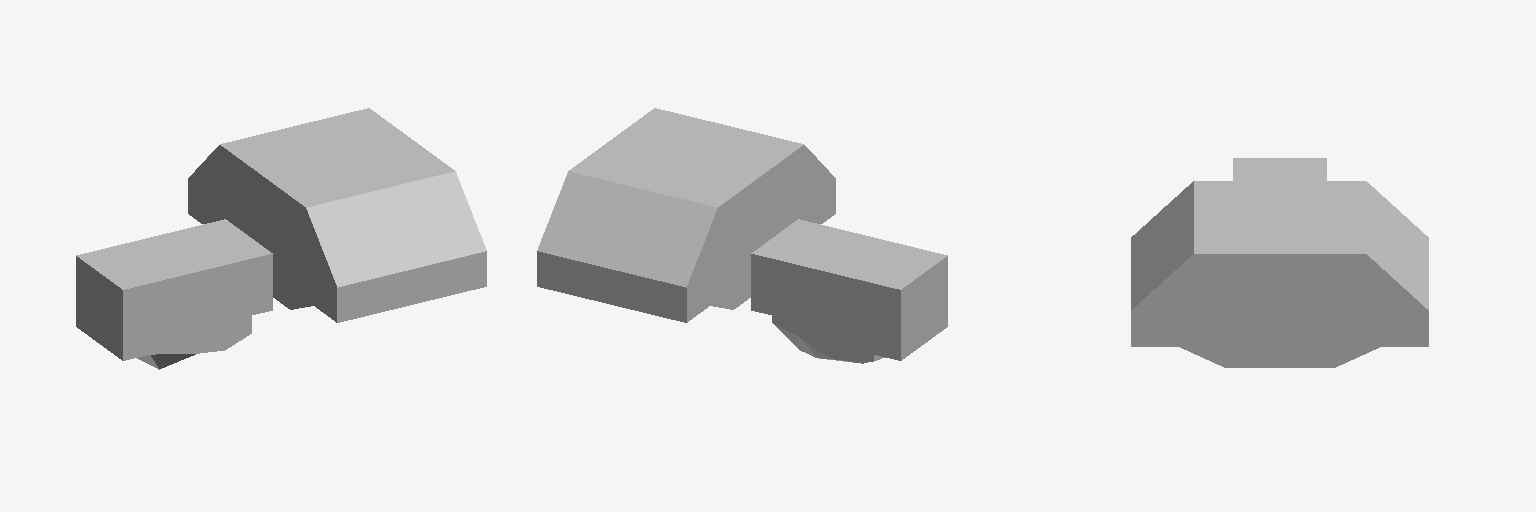
File: level_easy_modified.obj
3 renders of one model, left to right at view 1: azimuth 30°, elevation 25°; view 2: azimuth 150°, elevation 25°; view 3: azimuth 270°, elevation 25°, orthographic.
Size of the model in its own units: 46 by 22 by 38.